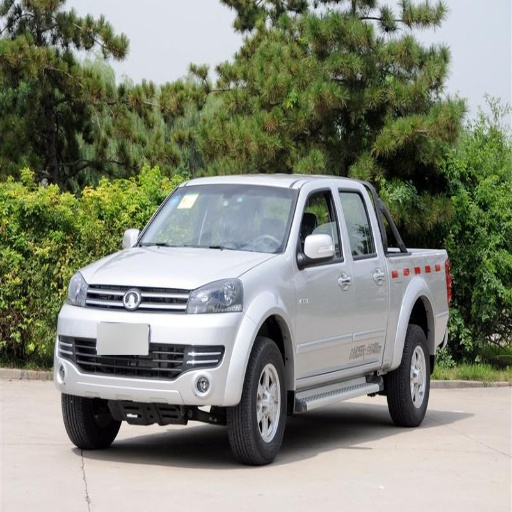back_left_door: (336, 186, 385, 362)
front_bumper: (54, 283, 257, 403)
front_glass: (137, 185, 297, 252)
front_left_door: (294, 186, 354, 378)
trunk: (386, 251, 450, 365)
